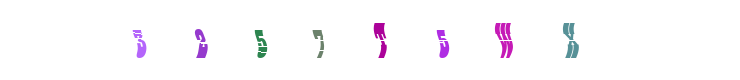2: (221, 0, 301, 80)
3: (218, 0, 298, 80)
5: (283, 0, 363, 80), (403, 0, 483, 80)
7: (327, 0, 407, 80)
T: (329, 0, 409, 80)
W: (411, 0, 491, 80)
X: (440, 0, 520, 80)
